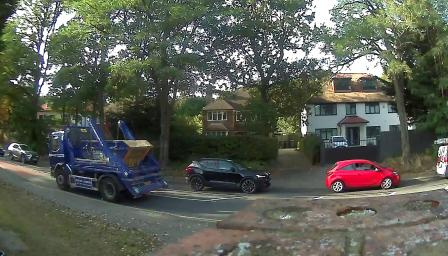Cars: (50, 124, 171, 195), (192, 152, 267, 194), (329, 160, 404, 196), (416, 138, 448, 192), (4, 136, 42, 168)
